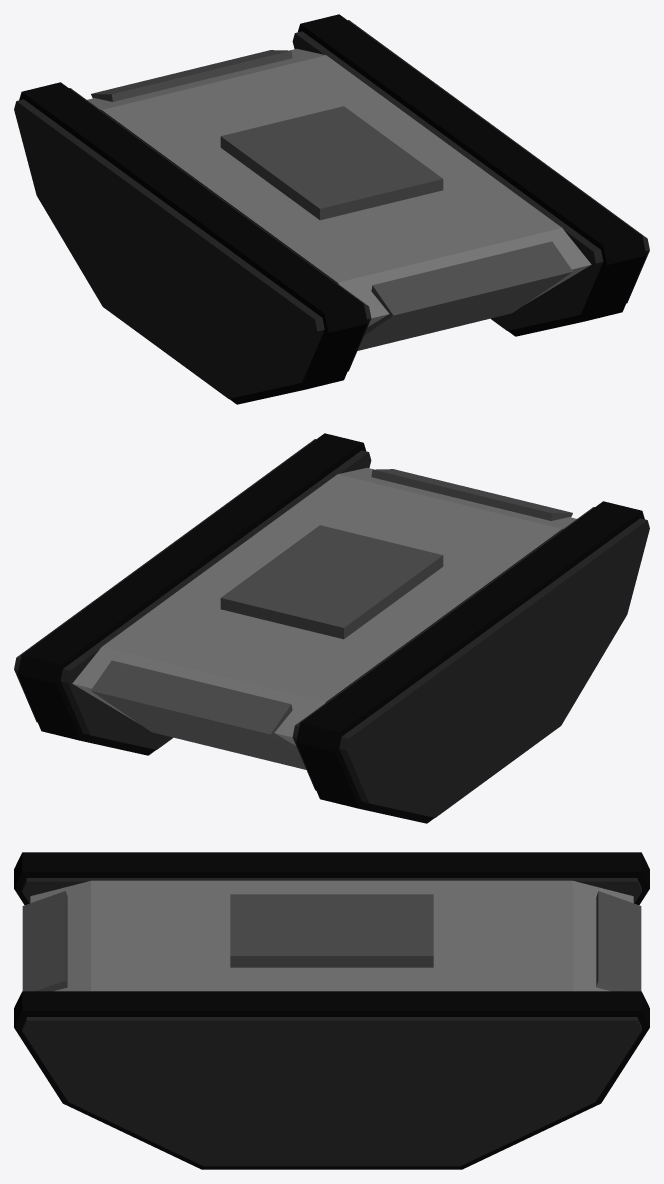
The model's file is Tracks.fbx.
3 renders of one model, top to bottom at view 1: azimuth 30°, elevation 25°; view 2: azimuth 150°, elevation 25°; view 3: azimuth 270°, elevation 25°, orthographic. The views are drawn at different scales.
Visible parts, largest first — view 1: Cube.004; view 2: Cube.004; view 3: Cube.004.
Boxes of the visible parts, bbox=[...] form: Cube.004: bbox=[14, 14, 649, 404]; Cube.004: bbox=[14, 433, 649, 823]; Cube.004: bbox=[14, 852, 649, 1169].
Bounding box in the file's own units: 244 × 113 × 396.
1 material, 1 textured.
